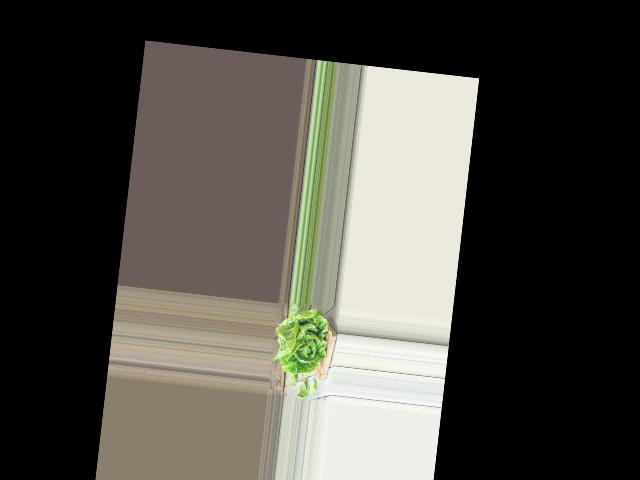lettuce: (273, 303, 333, 374)
